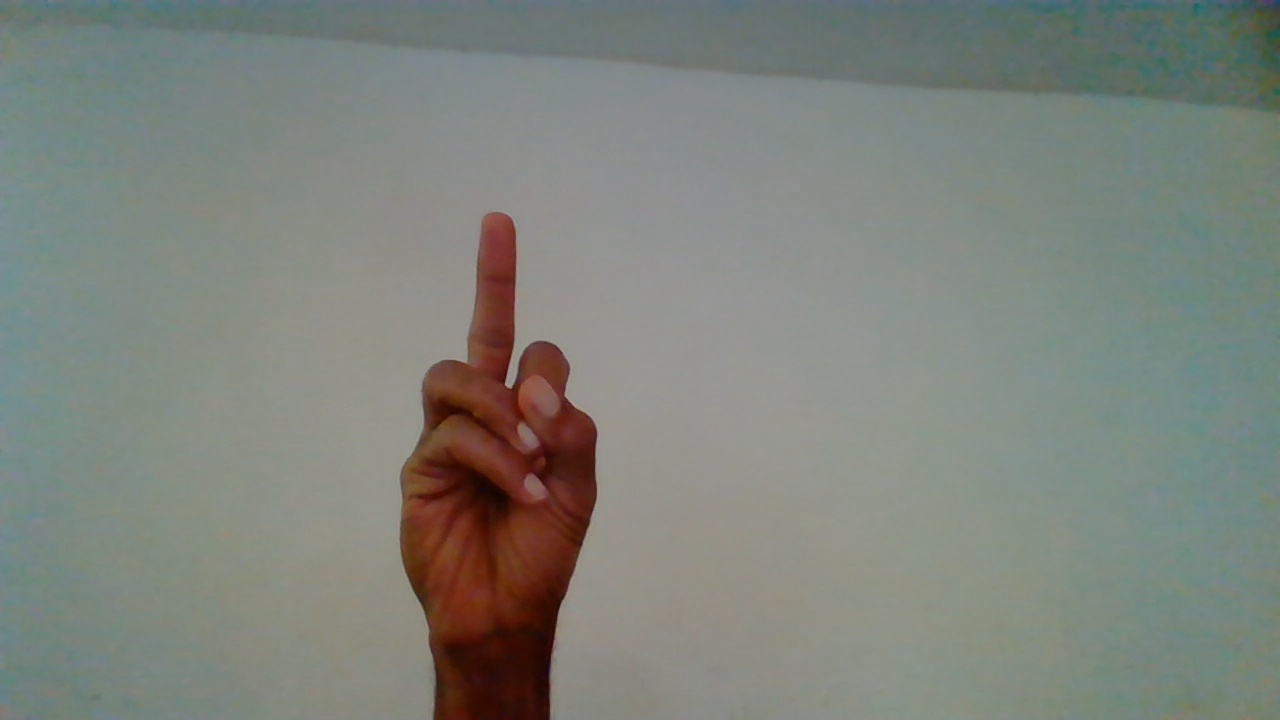he: (401, 216, 573, 695)
